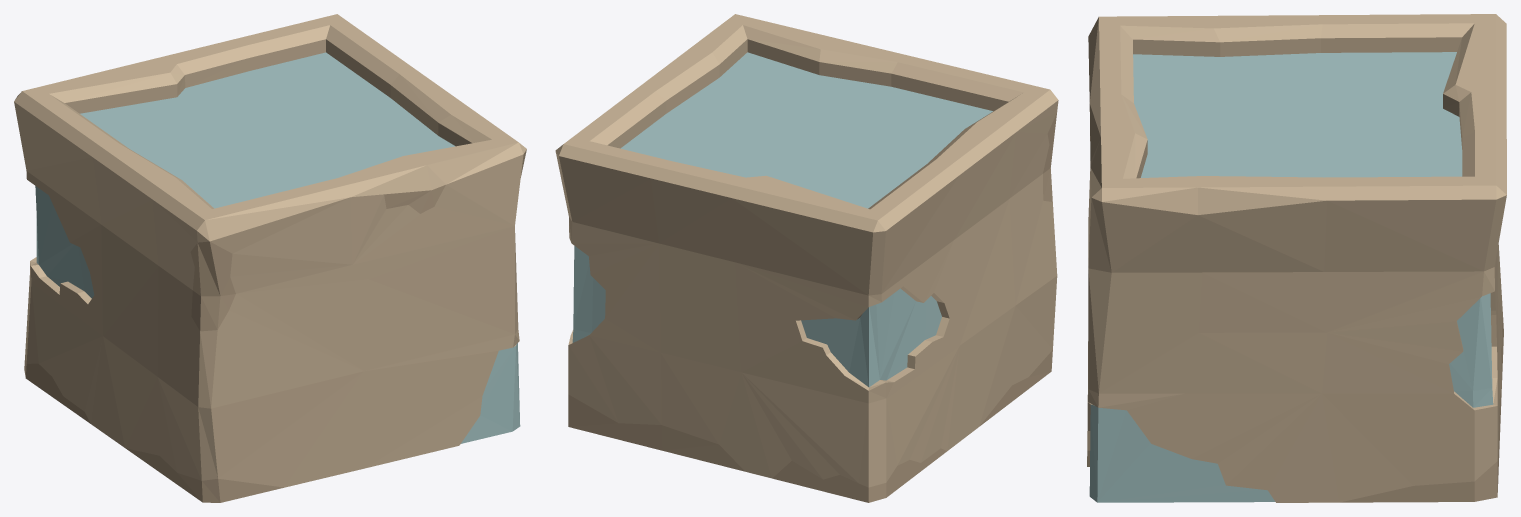
The model's file is SM_Bld_Village_03.fbx.
The picture shows the model from 3 angles, left to right: view 1: azimuth 30°, elevation 25°; view 2: azimuth 150°, elevation 25°; view 3: azimuth 270°, elevation 25°; orthographic projection. The views are drawn at different scales.
Visible parts, largest first — view 1: SM_Bld_Village_03; view 2: SM_Bld_Village_03; view 3: SM_Bld_Village_03.
Boxes of the visible parts, left/top/right/bottom form: SM_Bld_Village_03: left=14, top=14, right=526, bottom=502; SM_Bld_Village_03: left=555, top=14, right=1058, bottom=502; SM_Bld_Village_03: left=1087, top=14, right=1506, bottom=502.
Bounding box in the file's own units: 0.0409 × 0.0329 × 0.0397.
1 material, 1 textured.
